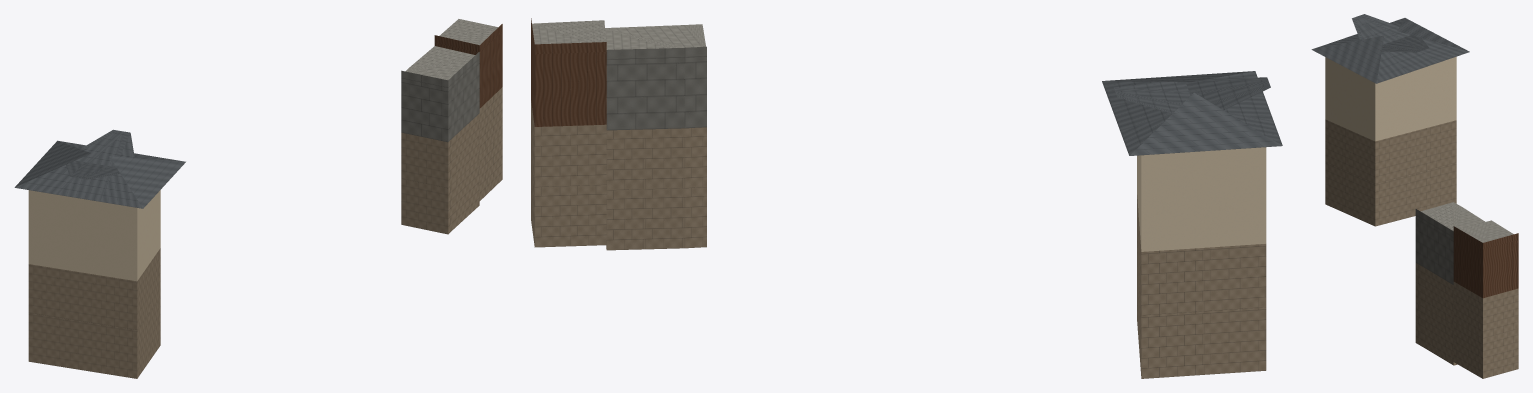
File: bld_c21_31_372.gltf
3 renders of one model, left to right at view 1: azimuth 30°, elevation 25°; view 2: azimuth 150°, elevation 25°; view 3: azimuth 270°, elevation 25°, orthographic. The views are drawn at different scales.
Parts seen in each view (by area): view 1: bld_c21_31_372; view 2: bld_c21_31_372; view 3: bld_c21_31_372.
Part boxes in pixels (bbox=[...]): bld_c21_31_372: bbox=[14, 19, 502, 378]; bld_c21_31_372: bbox=[531, 18, 1282, 378]; bld_c21_31_372: bbox=[1311, 14, 1518, 378].
Bounding box in the file's own units: 27.8 × 9.8 × 10.76.
8 materials, 8 textured.
